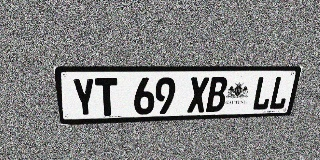6: (134, 77, 155, 115)
9: (154, 77, 176, 114)
B: (206, 77, 228, 112)
L: (251, 76, 275, 110), (268, 76, 292, 110)
T: (95, 78, 118, 116)
X: (187, 77, 209, 113)
Y: (71, 78, 96, 117)
